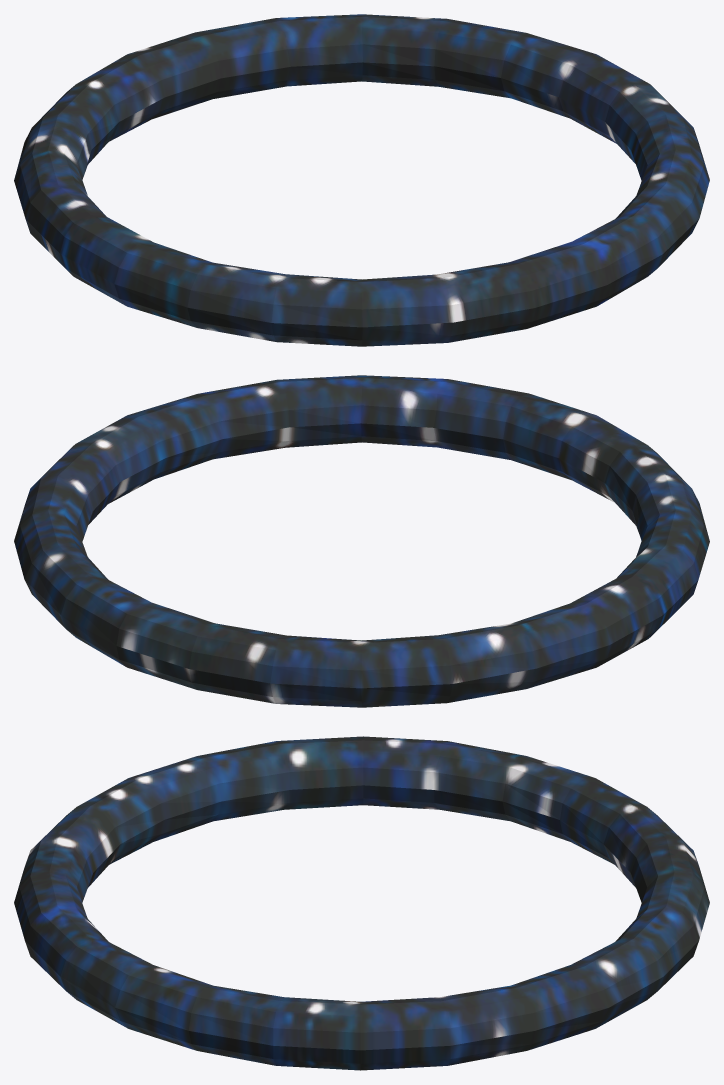
The model's file is donut.glb.
3 views of the same model, one above another, from view 1: azimuth 30°, elevation 25°; view 2: azimuth 150°, elevation 25°; view 3: azimuth 270°, elevation 25° (orthographic).
Visible parts, largest first — view 1: donut; view 2: donut; view 3: donut.
Boxes of the visible parts, x1=… form: donut: x1=14, y1=14, x2=709, y2=346; donut: x1=14, y1=375, x2=709, y2=707; donut: x1=14, y1=736, x2=709, y2=1070.
Bounding box in the file's own units: 193 × 18.93 × 193.
1 material, 1 textured.
